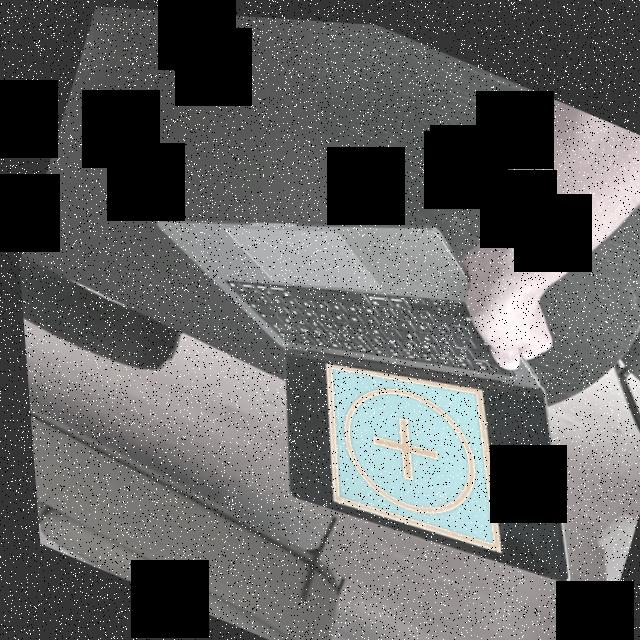Marker: (291, 323, 518, 577)
